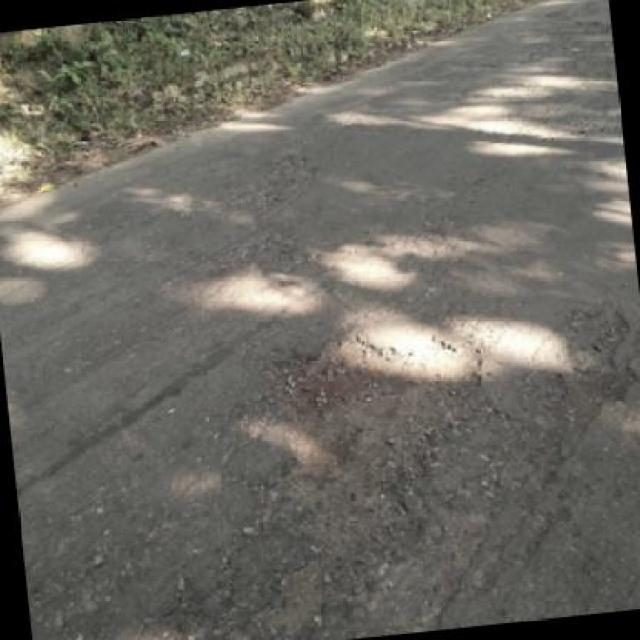pothole1: (248, 315, 500, 573)
